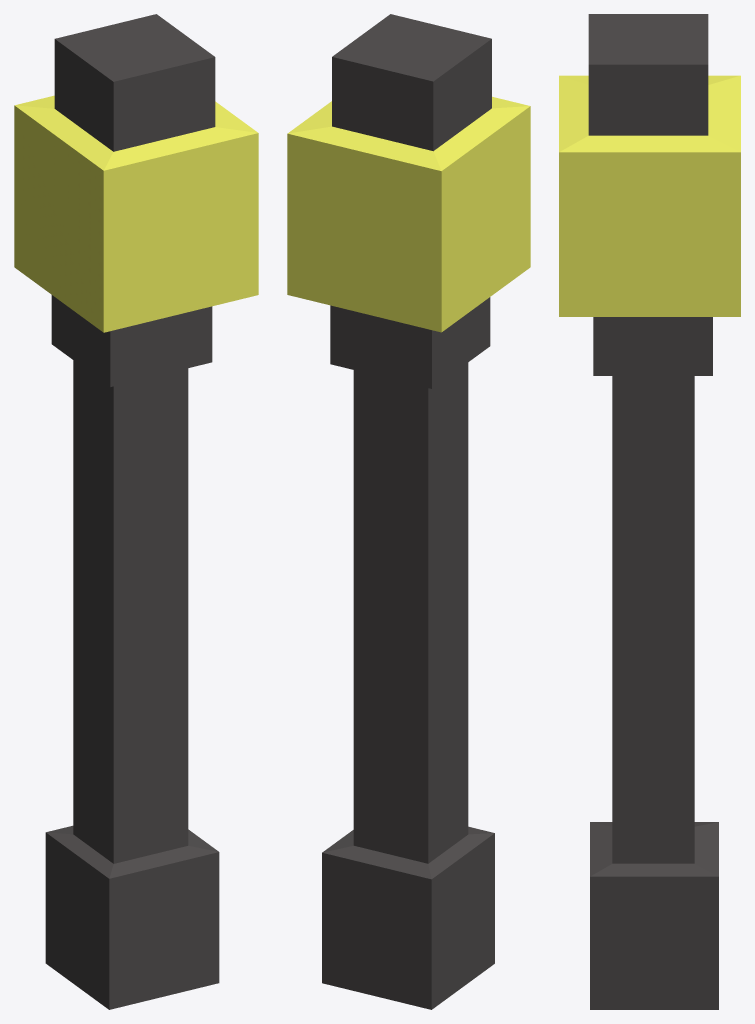
The model's file is Lamp.fbx.
3 views of the same model, side by side, from view 1: azimuth 30°, elevation 25°; view 2: azimuth 150°, elevation 25°; view 3: azimuth 270°, elevation 25° (orthographic). The views are drawn at different scales.
Parts seen in each view (by area): view 1: Lamp; view 2: Lamp; view 3: Lamp.
Boxes of the visible parts, x1,y1,x2,y2 form: Lamp: [14, 14, 258, 1009]; Lamp: [287, 14, 530, 1009]; Lamp: [559, 14, 740, 1009].
Size of the model in its own units: 47.44 by 272 by 47.44.
